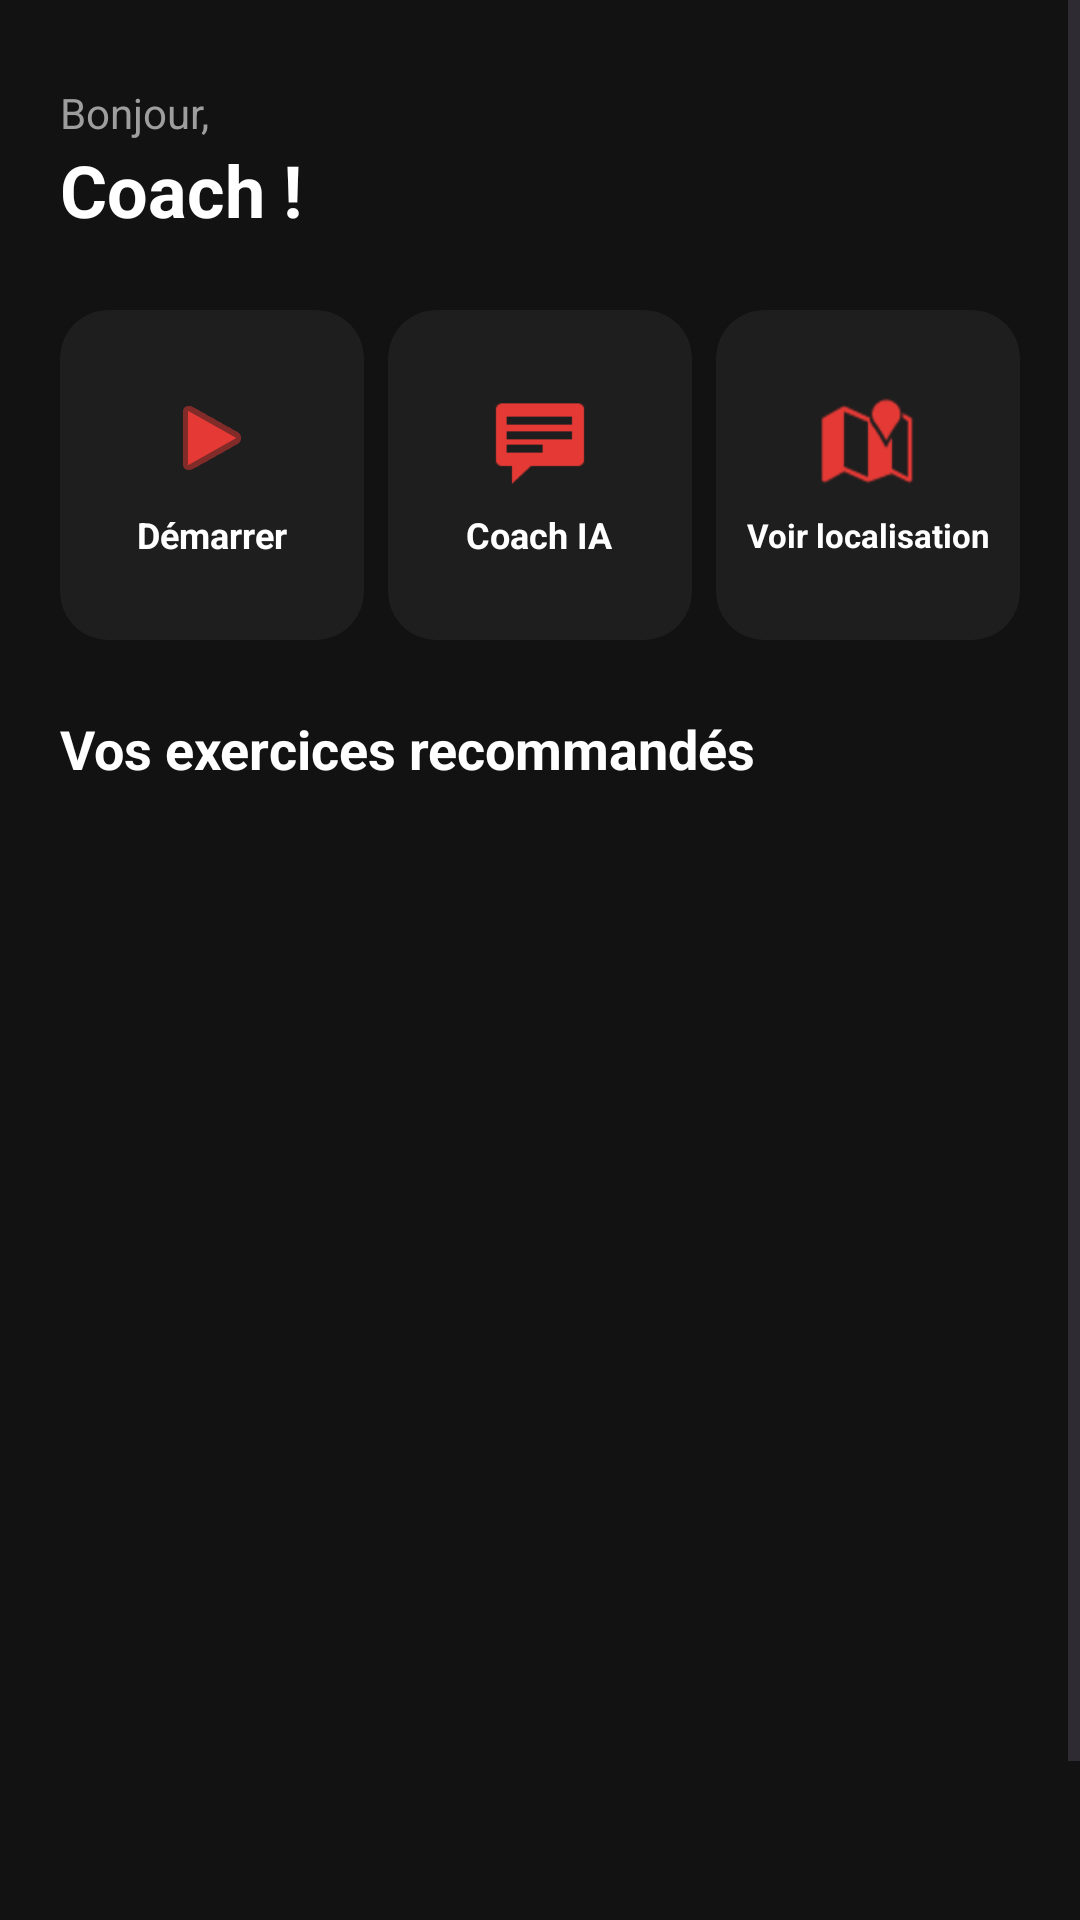

Screen size 1080 x 1920. Icon name, then its center in pixels as [x,y]:
chat: [540,443]
map: [867,441]
play: [212,438]
